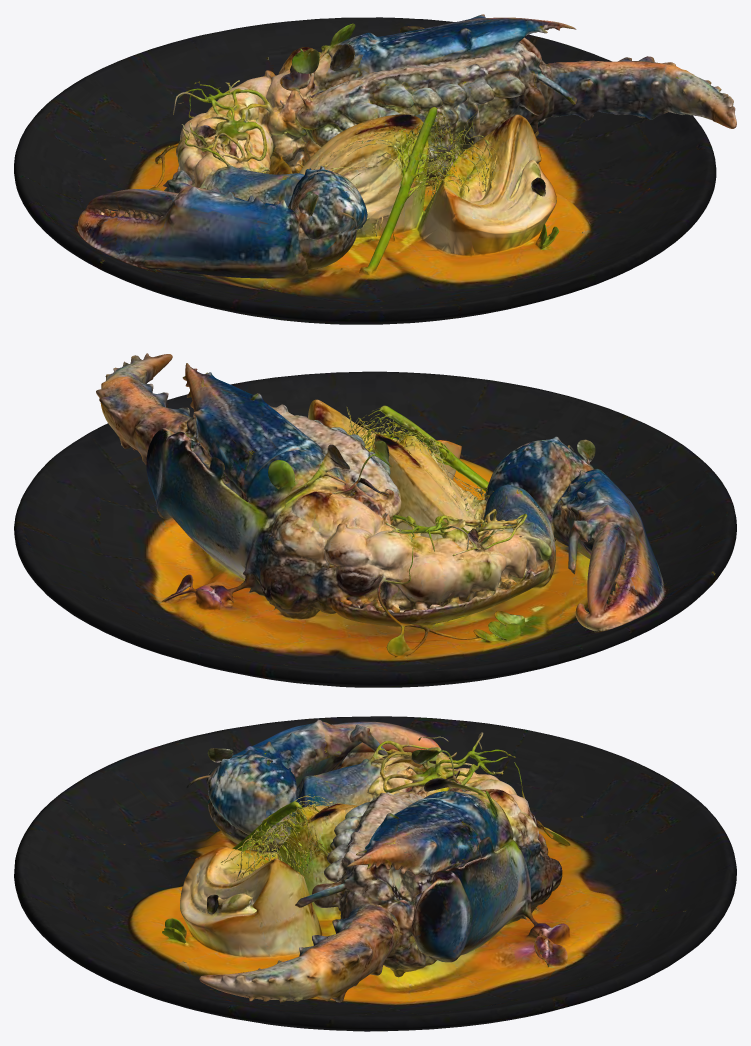
The model's file is homard-bisque-ar-lite-meshy.glb.
The picture shows the model from 3 angles, top to bottom: view 1: azimuth 30°, elevation 25°; view 2: azimuth 150°, elevation 25°; view 3: azimuth 270°, elevation 25°; orthographic projection. The views are drawn at different scales.
Parts seen in each view (by area): view 1: node0; view 2: node0; view 3: node0.
Part boxes in pixels (x1=…): node0: x1=14, y1=14, x2=736, y2=324; node0: x1=14, y1=353, x2=736, y2=687; node0: x1=14, y1=716, x2=736, y2=1031.
Size of the model in its own units: 0.21 by 0.0552 by 0.2095.
Materials: 1 (1 with a texture image).
